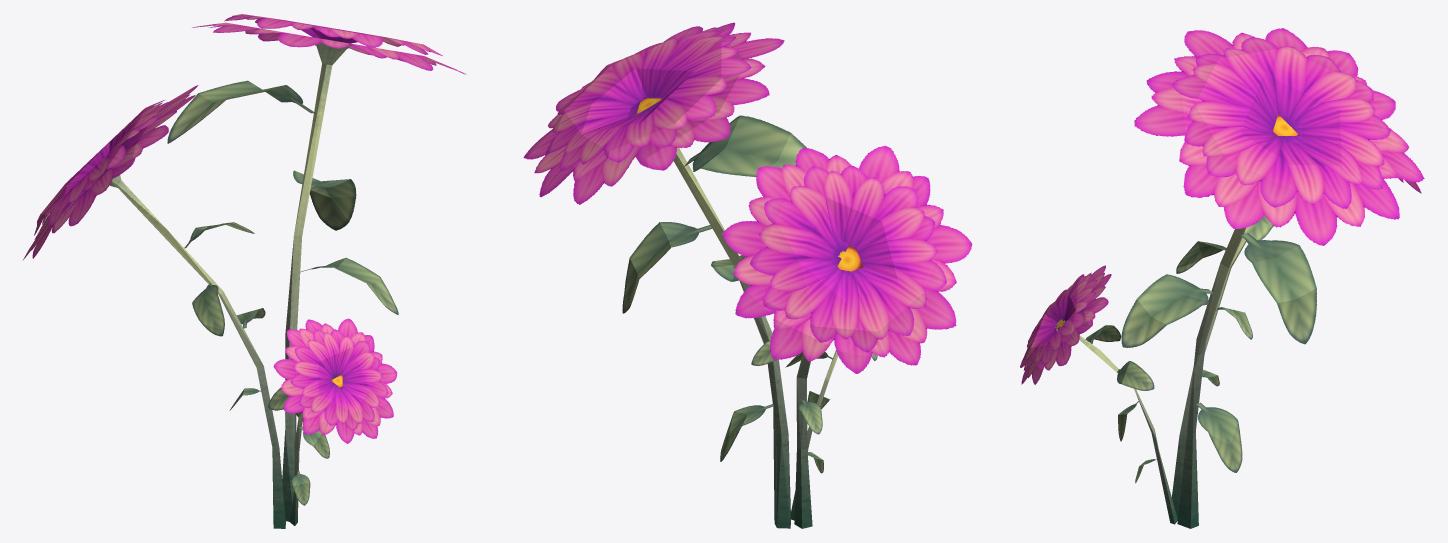
The model's file is VEG0310029.fbx.
The picture shows the model from 3 angles, left to right: view 1: azimuth 30°, elevation 25°; view 2: azimuth 150°, elevation 25°; view 3: azimuth 270°, elevation 25°; orthographic projection. The views are drawn at different scales.
Visible parts, largest first — view 1: smVEG0310029; view 2: smVEG0310029; view 3: smVEG0310029.
Boxes of the visible parts, box(x1,y1,x2,y2) form: smVEG0310029: box(23, 14, 466, 528); smVEG0310029: box(523, 22, 972, 528); smVEG0310029: box(1020, 28, 1424, 528).
Bounding box in the file's own units: 48.56 × 52.08 × 39.83.
1 material, 1 textured.
